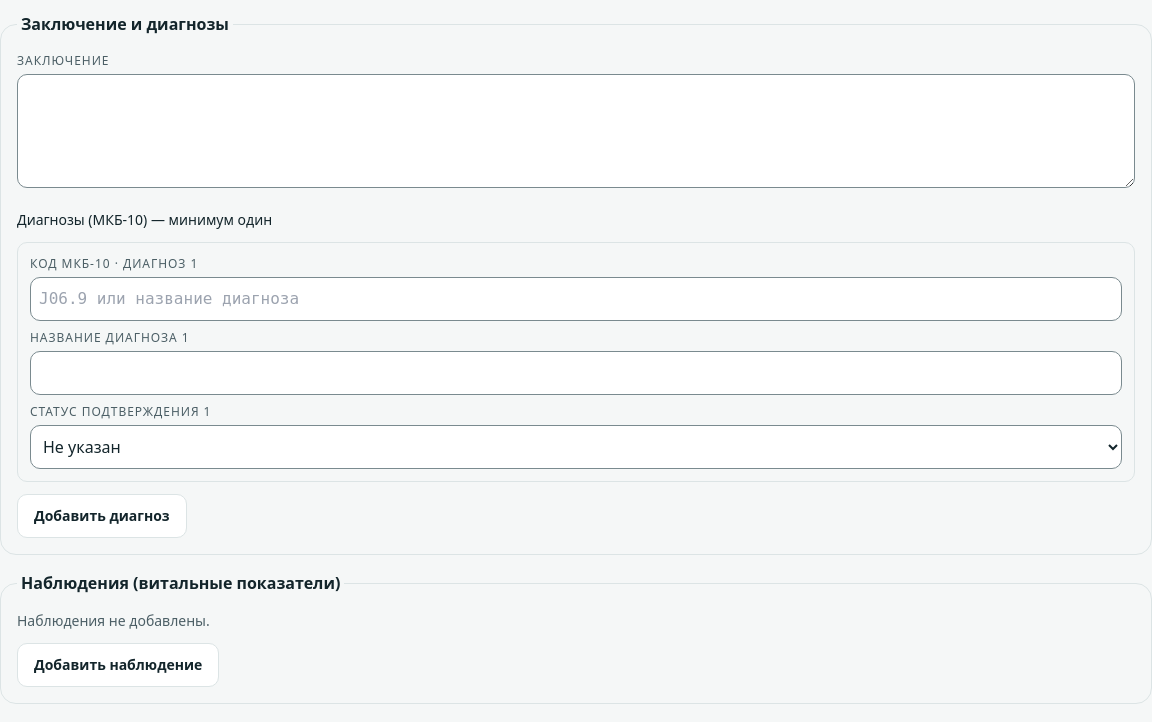
Test: EncounterCompleteForm focus of added rows › should fill the diagnosis name from the terminology when a full code is typed and the field is left
Type "J06.9" into the dropdown labelled "Код МКБ-10 · диагноз 1" at (576, 299), box [30,277,1122,321]
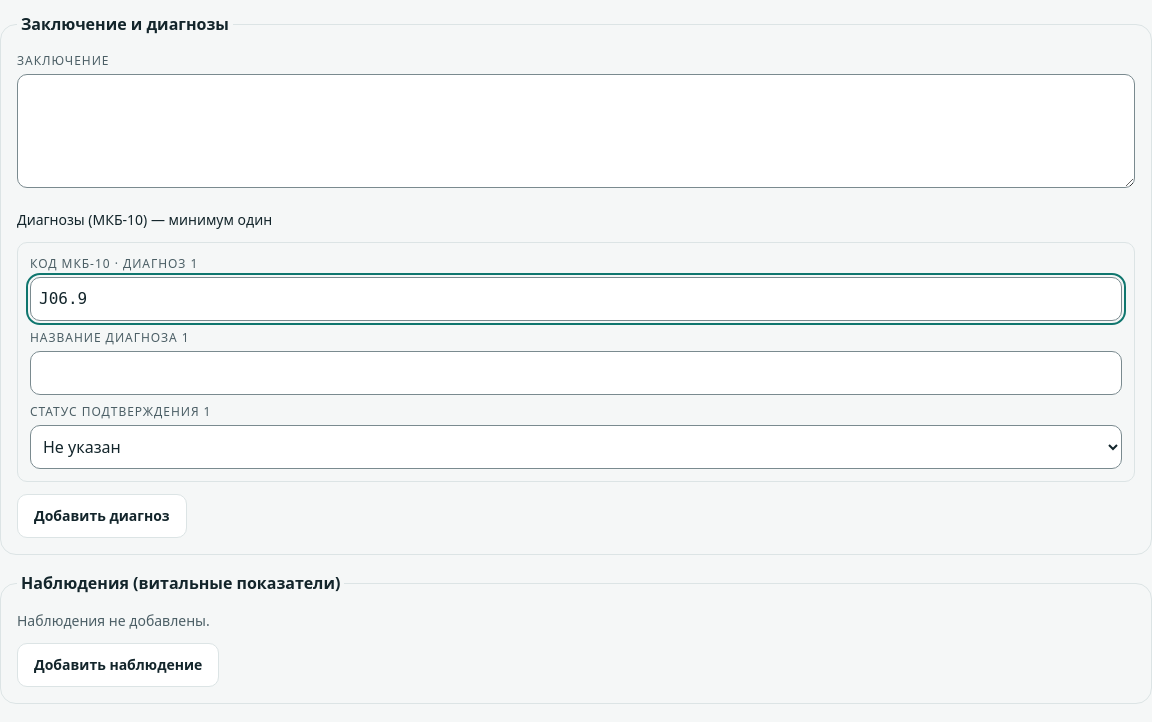
Press Tab
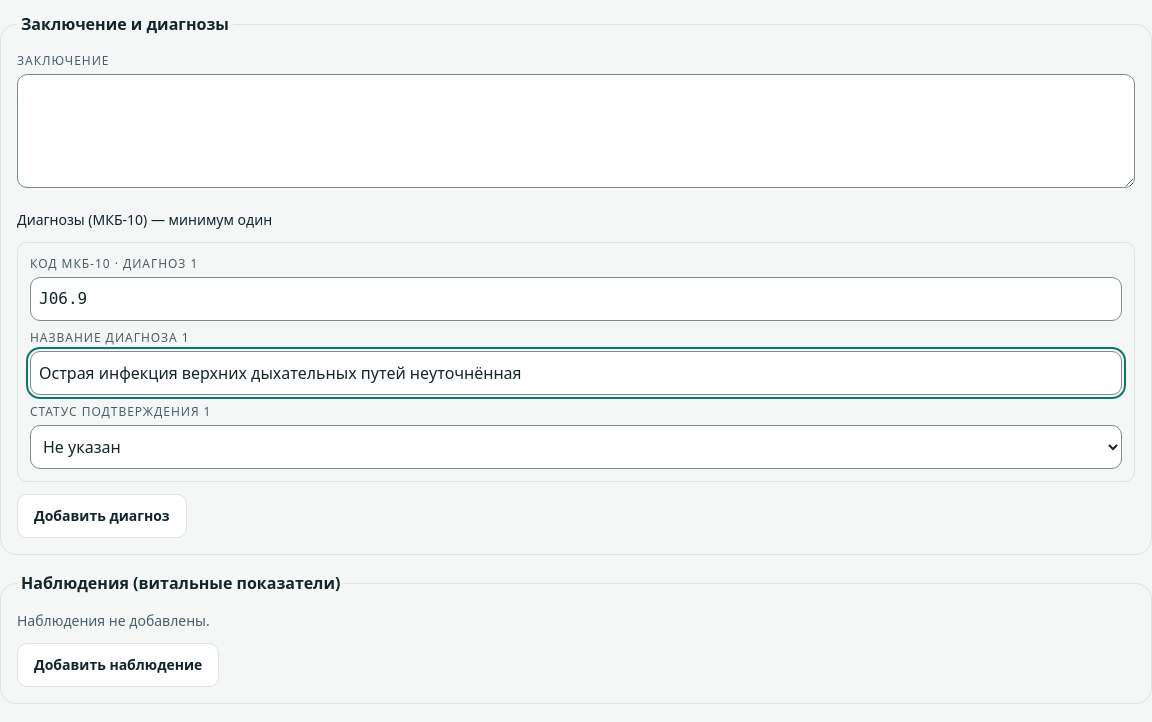
Check: the field labelled "Название диагноза 1" holds "Острая инфекция верхних дыхательных путей неуточнённая", box [30,351,1122,395]
